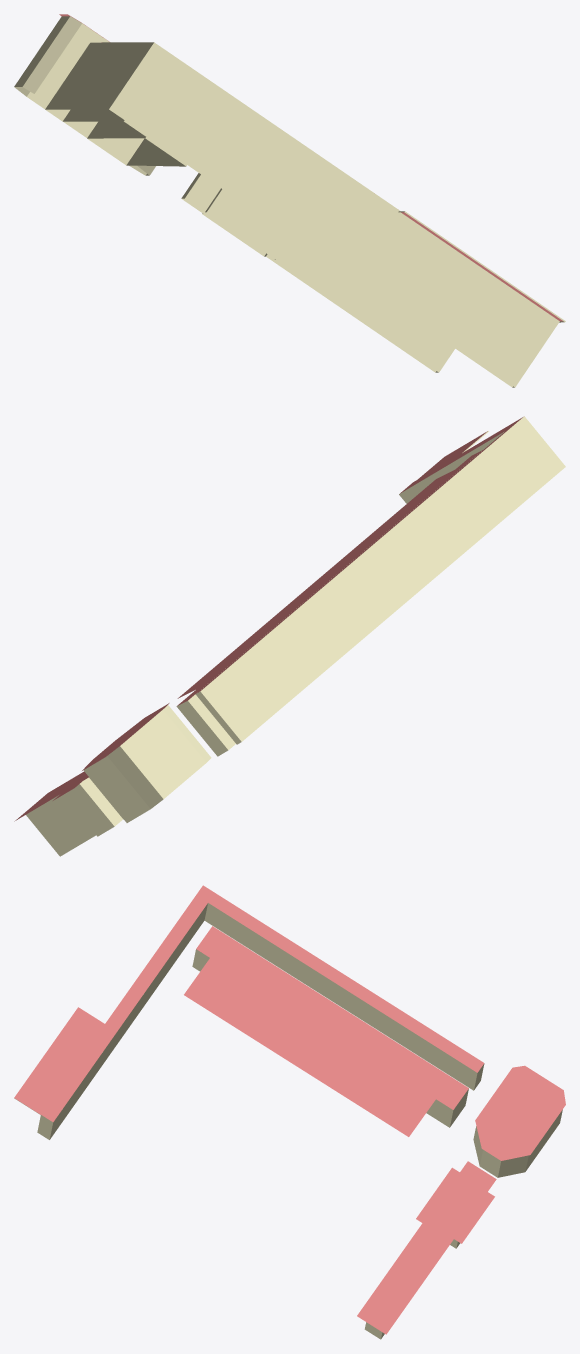
The model's file is tile_078.glb.
The picture shows the model from 3 angles, top to bottom: view 1: azimuth 30°, elevation 25°; view 2: azimuth 150°, elevation 25°; view 3: azimuth 270°, elevation 25°; orthographic projection. The views are drawn at different scales.
Parts seen in each view (by area): view 1: Batched_Building_ID_BF7CBDF0-9B9C-48F1-9F20-C36D3232D6D6, Batched_Building_ID_20865C6C-8877-4BBB-95F7-FE9AD2425C51; view 2: Batched_Building_ID_BF7CBDF0-9B9C-48F1-9F20-C36D3232D6D6, Batched_Building_ID_20865C6C-8877-4BBB-95F7-FE9AD2425C51; view 3: Batched_Building_ID_20865C6C-8877-4BBB-95F7-FE9AD2425C51, Batched_Building_ID_BF7CBDF0-9B9C-48F1-9F20-C36D3232D6D6.
Part boxes in pixels (left/top/right/bottom): Batched_Building_ID_BF7CBDF0-9B9C-48F1-9F20-C36D3232D6D6: left=14, top=16, right=565, bottom=387; Batched_Building_ID_20865C6C-8877-4BBB-95F7-FE9AD2425C51: left=59, top=14, right=562, bottom=321; Batched_Building_ID_BF7CBDF0-9B9C-48F1-9F20-C36D3232D6D6: left=26, top=416, right=565, bottom=856; Batched_Building_ID_20865C6C-8877-4BBB-95F7-FE9AD2425C51: left=14, top=417, right=522, bottom=821; Batched_Building_ID_20865C6C-8877-4BBB-95F7-FE9AD2425C51: left=14, top=885, right=565, bottom=1334; Batched_Building_ID_BF7CBDF0-9B9C-48F1-9F20-C36D3232D6D6: left=14, top=903, right=562, bottom=1339.
Bounding box in the file's own units: 46.4 × 45.46 × 69.32.
